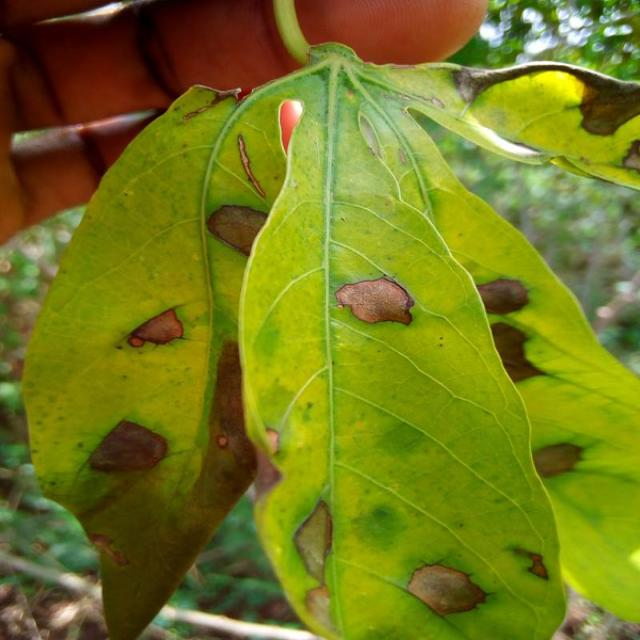cassava leaf: (20, 40, 638, 638)
